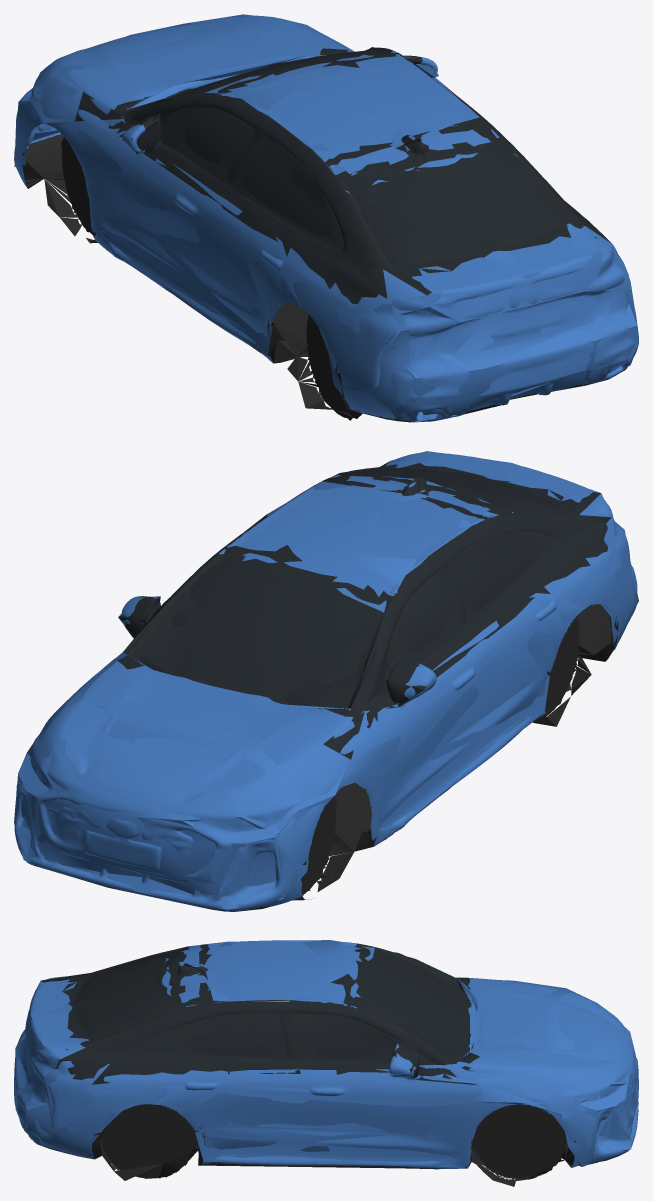
Rendered from audi-a5.glb.
3 views of the same model, one above another, from view 1: azimuth 30°, elevation 25°; view 2: azimuth 150°, elevation 25°; view 3: azimuth 270°, elevation 25° (orthographic). The views are drawn at different scales.
Visible parts, largest first — view 1: body, far; view 2: body, far; view 3: body, far.
Part boxes in pixels (bbox=[...]): body: bbox=[14, 15, 638, 422]; far: bbox=[14, 14, 638, 422]; body: bbox=[14, 452, 637, 911]; far: bbox=[14, 451, 638, 909]; body: bbox=[14, 940, 638, 1186]; far: bbox=[15, 940, 638, 1180].
Bounding box in the file's own units: 2.14 × 1.55 × 4.95.
